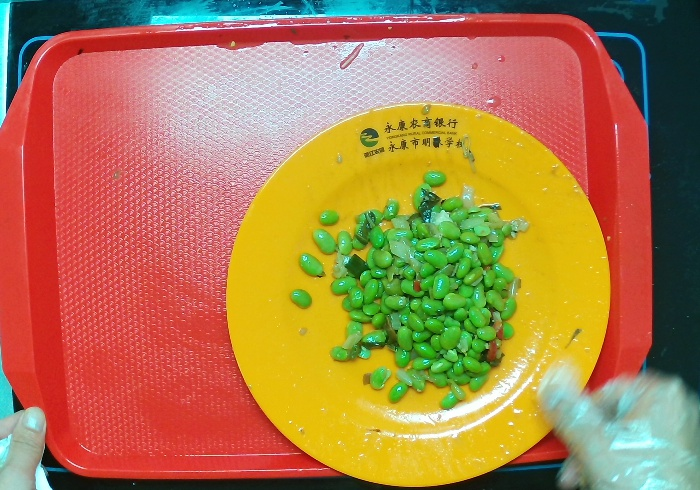YKMZ-Ju_Se_Mian_Pan: (222, 98, 615, 490)
